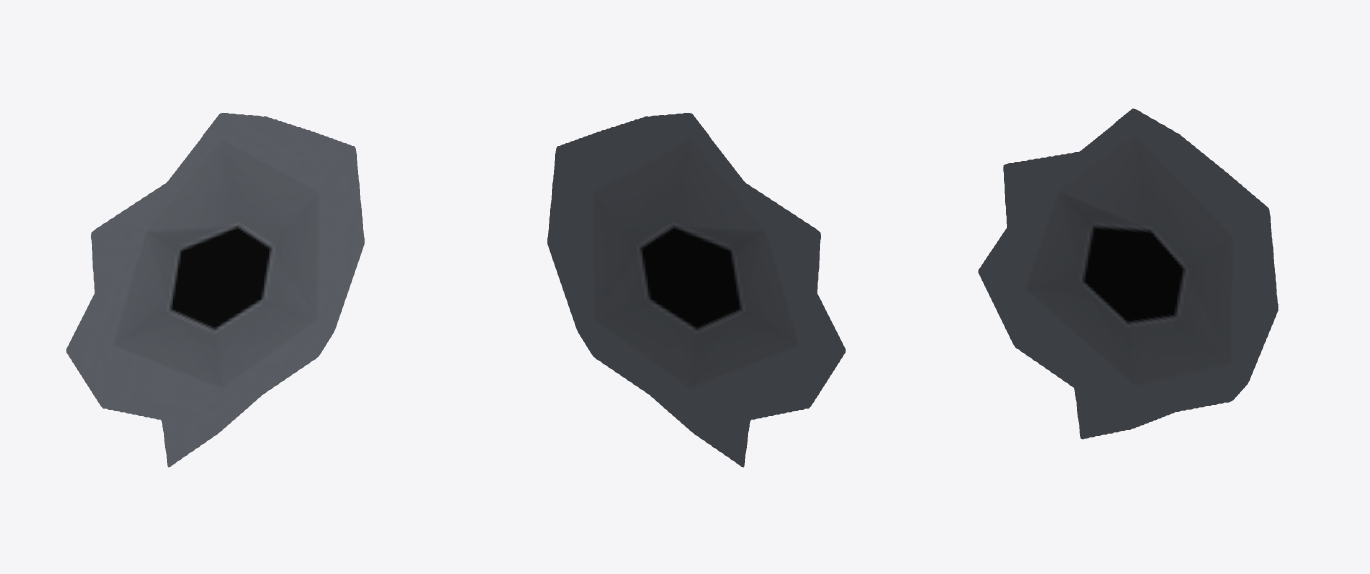
File: SM_Prop_Decal_Metal_04.fbx
3 renders of one model, left to right at view 1: azimuth 30°, elevation 25°; view 2: azimuth 150°, elevation 25°; view 3: azimuth 330°, elevation 25°, orthographic.
Parts seen in each view (by area): view 1: SM_Prop_Decal_Metal_04; view 2: SM_Prop_Decal_Metal_04; view 3: SM_Prop_Decal_Metal_04.
Part boxes in pixels (x1,y1,x2,y2): SM_Prop_Decal_Metal_04: (66,113,364,467); SM_Prop_Decal_Metal_04: (547,113,845,467); SM_Prop_Decal_Metal_04: (978,108,1278,439).
Size of the model in its own units: 16.81 by 16.78 by 2.98e-08.
